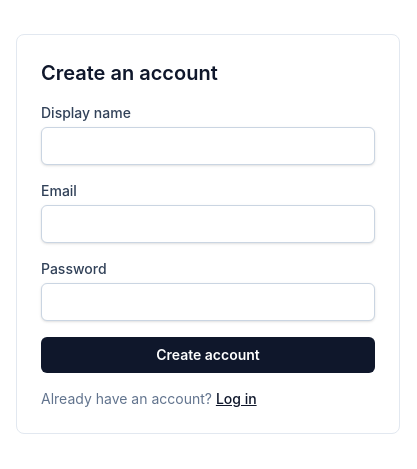
it: RegisterPage › shows the conflict error when the email is already registered
In the field labelled "Display name": (208, 146) [41,127,375,165], type "Existing User"
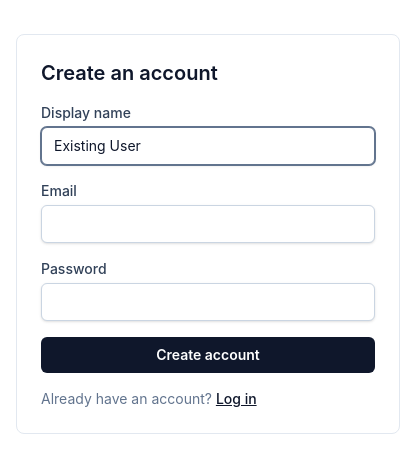
In the field labelled "Email": (208, 224) [41,205,375,243], type "taken@prepstack.dev"
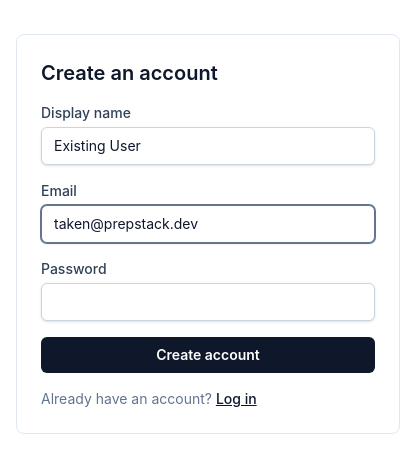
In the password field labelled "Password": (208, 302) [41,283,375,321], type "correct-password"
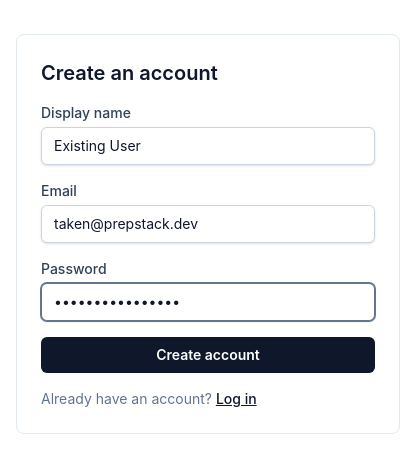
Click the button "Create account": (208, 355) [41,337,375,373]
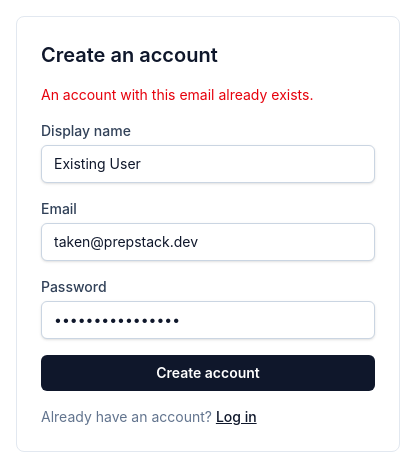
Expected: the message reads "An account with this email already exists.", [41,86,314,103]
